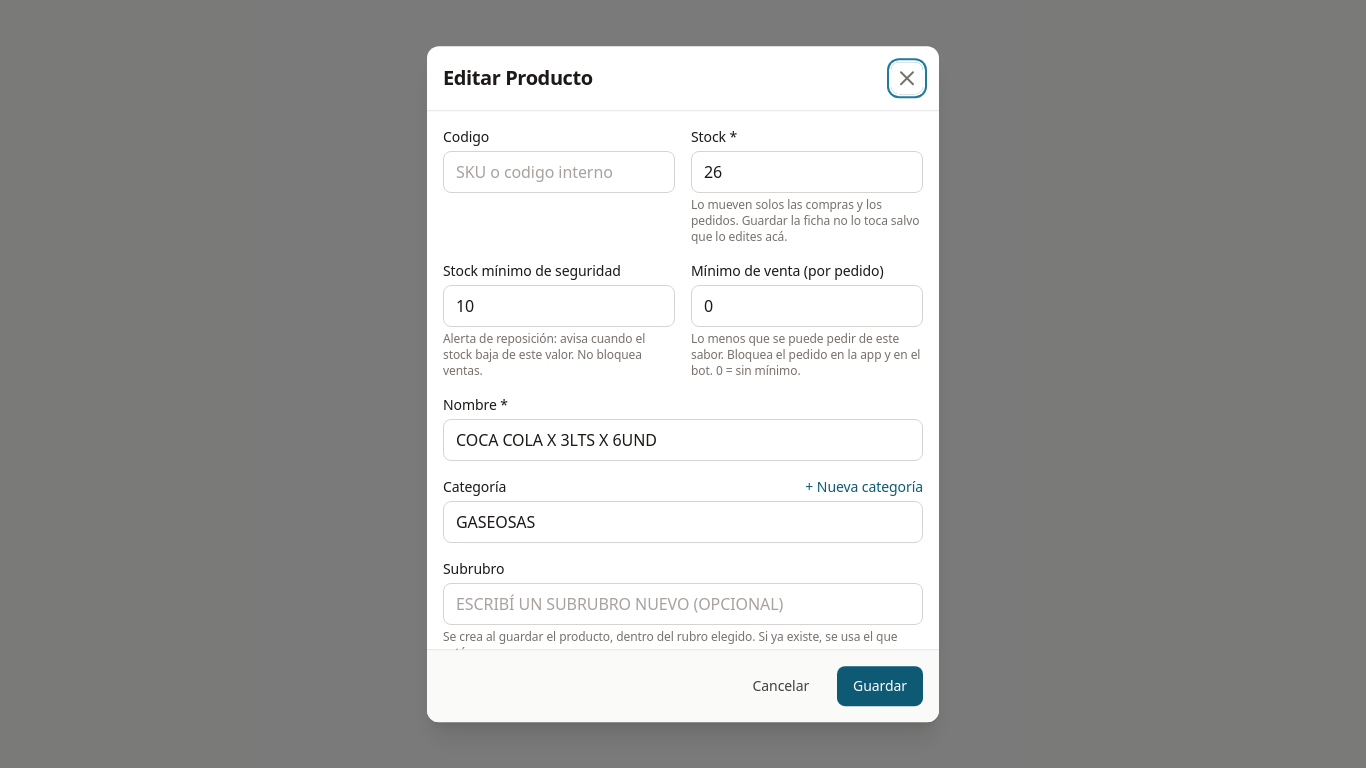
Test case: ModalProducto — el stock solo viaja si lo tocaste › avisa que la ficha no mueve el saldo, y describe el ajuste cuando lo hay
Expected: the text "Lo mueven solos las compras y los pedidos" is shown, [691,196,919,245]
Replace the text in the field below "Stock *" with "30" at [807, 172], box [691,151,923,193]
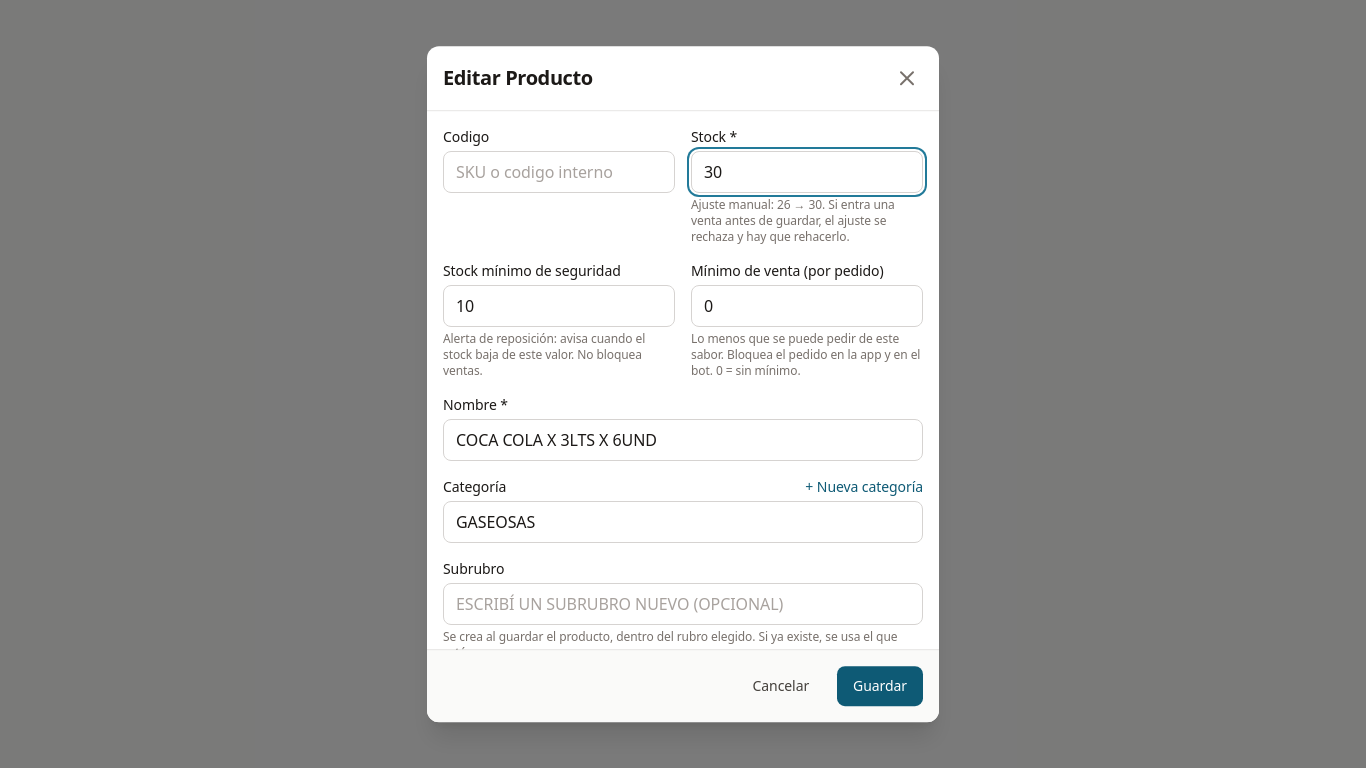
Expected: the text "Ajuste manual: 26 → 30" is shown, [691,196,895,245]
